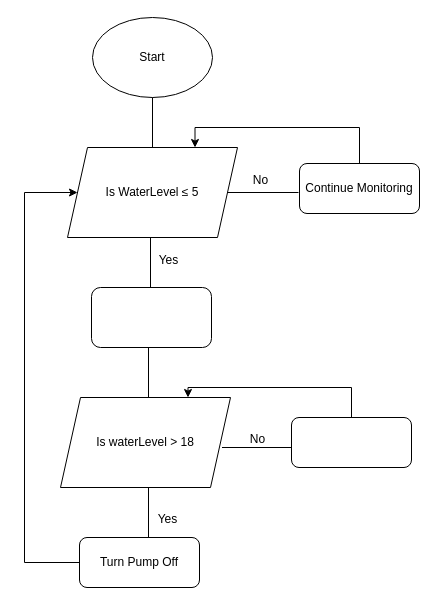
The diagram is 437 pixels wide and 605 high, and some of its shapes have lost their labels. The shapes that lost their labels are listed below. From the top down, each one's centre as x and y in pixels, then its label:
the point at 151,317: Turn pump ON
the point at 351,442: Continue Pumping
